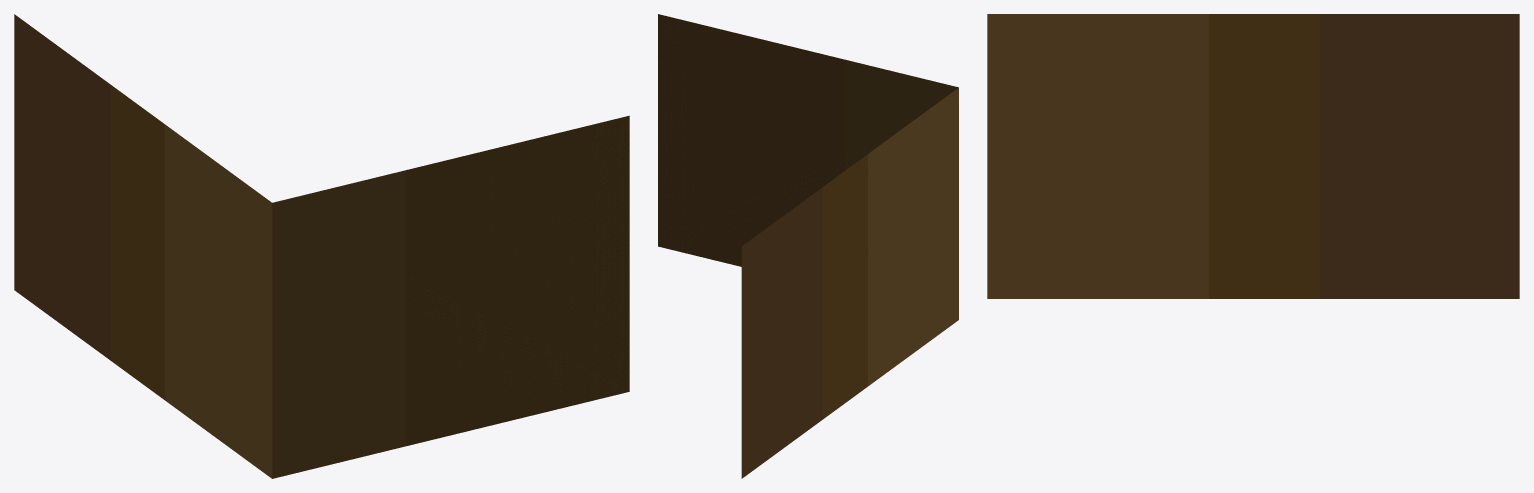
3 views of the same model, side by side, from view 1: azimuth 30°, elevation 25°; view 2: azimuth 150°, elevation 25°; view 3: azimuth 270°, elevation 25° (orthographic). The views are drawn at different scales.
Bounding box in the file's own units: 0.5 × 0.3691 × 0.625.
1 material, 1 textured.
